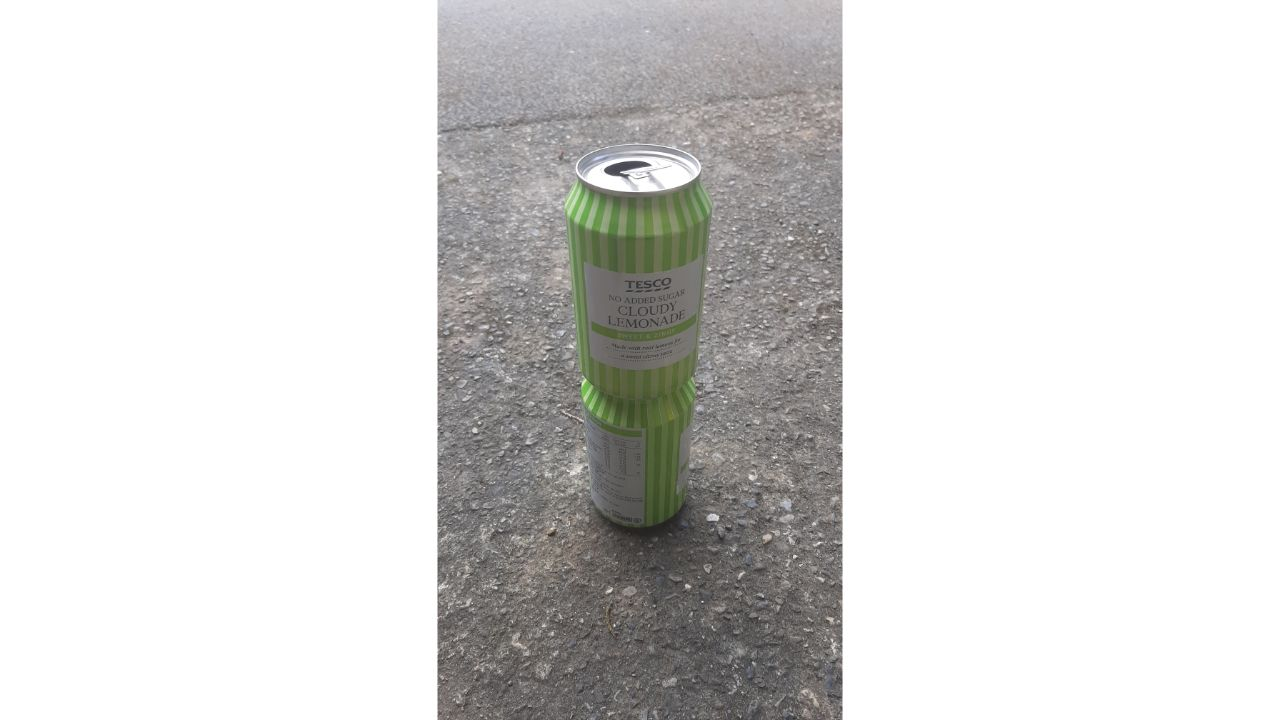Can: (561, 135, 718, 411), (571, 368, 699, 537)
